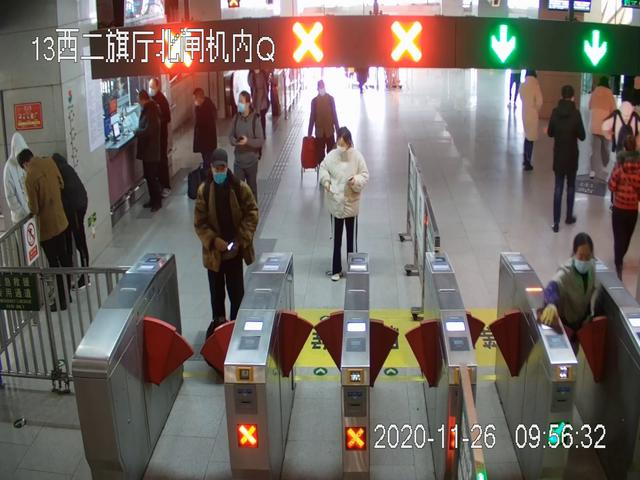person: (195, 148, 259, 340), (16, 146, 77, 312), (539, 232, 597, 400), (319, 126, 369, 281), (44, 151, 91, 290), (549, 85, 587, 232), (4, 132, 40, 260), (610, 134, 640, 281), (301, 80, 340, 189), (135, 89, 166, 212), (230, 91, 264, 203), (147, 77, 173, 197), (191, 87, 219, 197), (589, 77, 615, 182), (518, 70, 543, 173), (244, 67, 272, 142)
